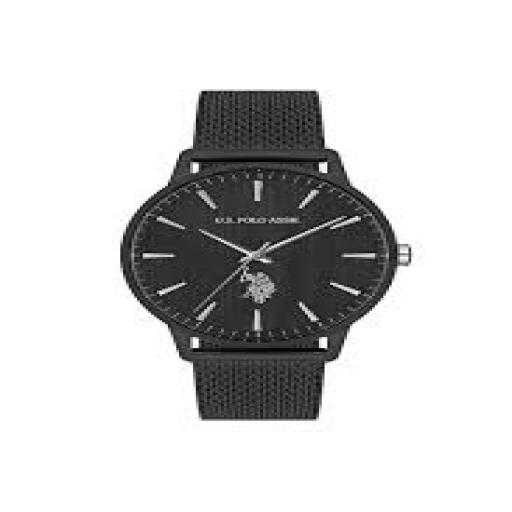KolSaati: (109, 63, 430, 437)
